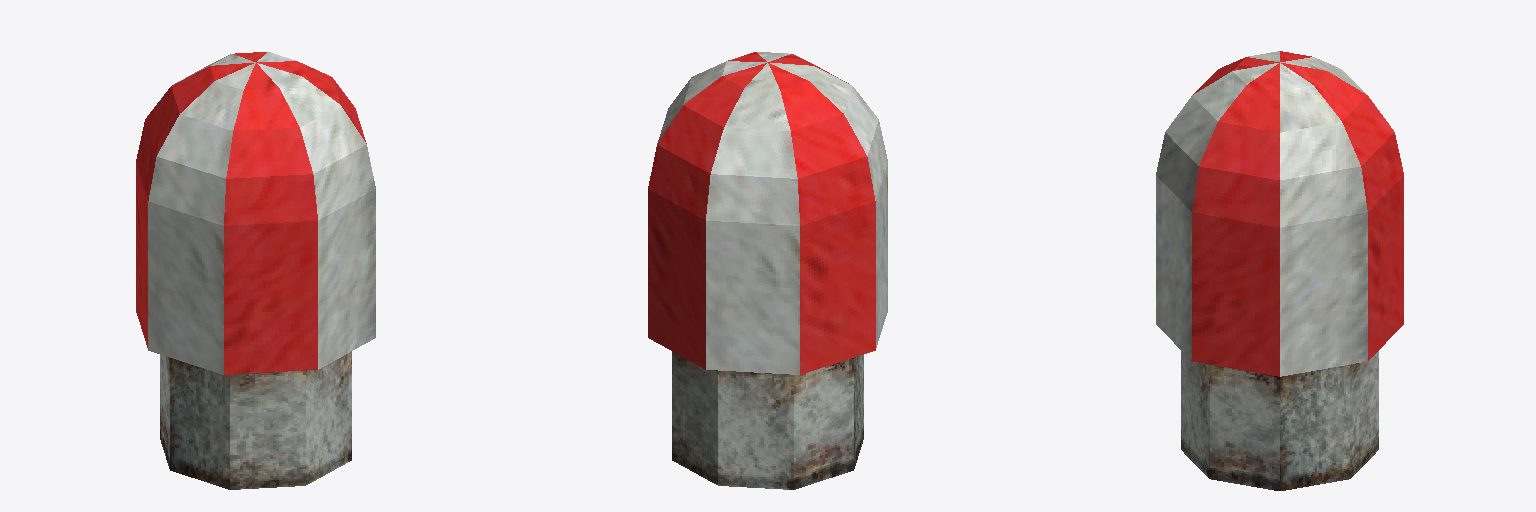
3 renders of one model, left to right at view 1: azimuth 30°, elevation 25°; view 2: azimuth 150°, elevation 25°; view 3: azimuth 270°, elevation 25°, orthographic.
Parts seen in each view (by area): view 1: SO12_SO01; view 2: SO12_SO01; view 3: SO12_SO01.
Boxes of the visible parts, <box> form: SO12_SO01: <box>136,52,375,489</box>; SO12_SO01: <box>648,52,887,489</box>; SO12_SO01: <box>1156,51,1403,490</box>.
Size of the model in its own units: 0.18 by 0.3092 by 0.18.
1 materials, 1 textured.